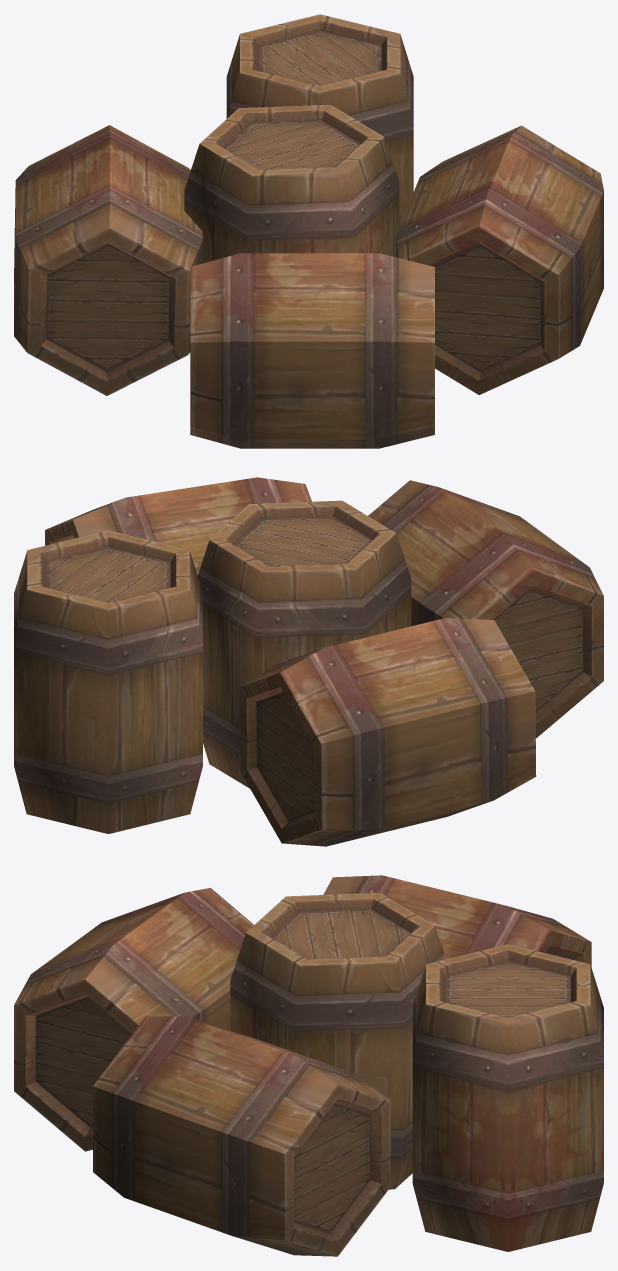
File: sc_gcfxprops_007.FBX
3 views of the same model, one above another, from view 1: azimuth 30°, elevation 25°; view 2: azimuth 150°, elevation 25°; view 3: azimuth 270°, elevation 25° (orthographic). The views are drawn at different scales.
Parts seen in each view (by area): view 1: sc_gcfxprops_007; view 2: sc_gcfxprops_007; view 3: sc_gcfxprops_007.
Boxes of the visible parts, x1,y1,x2,y2 form: sc_gcfxprops_007: (14, 14, 603, 448); sc_gcfxprops_007: (14, 477, 603, 846); sc_gcfxprops_007: (14, 875, 603, 1256).
Size of the model in its own units: 5.13 by 2.05 by 4.83.
